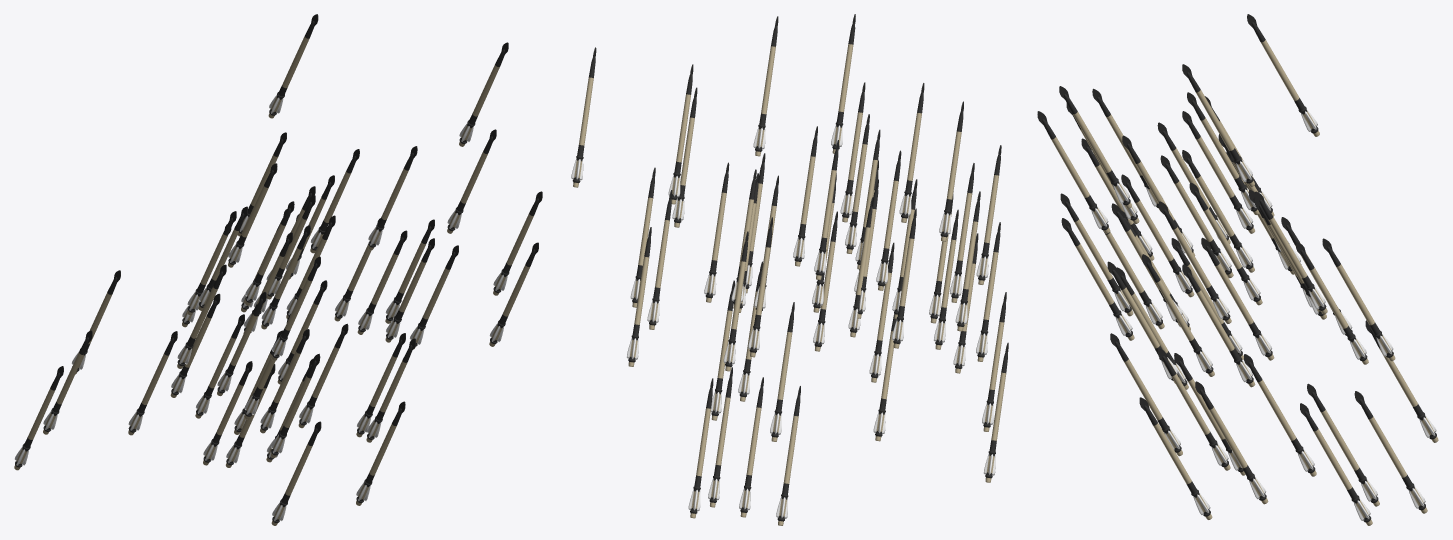
3 views of the same model, side by side, from view 1: azimuth 30°, elevation 25°; view 2: azimuth 150°, elevation 25°; view 3: azimuth 270°, elevation 25° (orthographic). The views are drawn at different scales.
Visible parts, largest first — view 1: A3; view 2: A3; view 3: A3.
Boxes of the visible parts, left/top/right/bottom form: A3: left=14, top=14, right=542, bottom=525; A3: left=571, top=14, right=1008, bottom=525; A3: left=1037, top=14, right=1438, bottom=525.
Bounding box in the file's own units: 1.27 × 1.3 × 0.9313.
